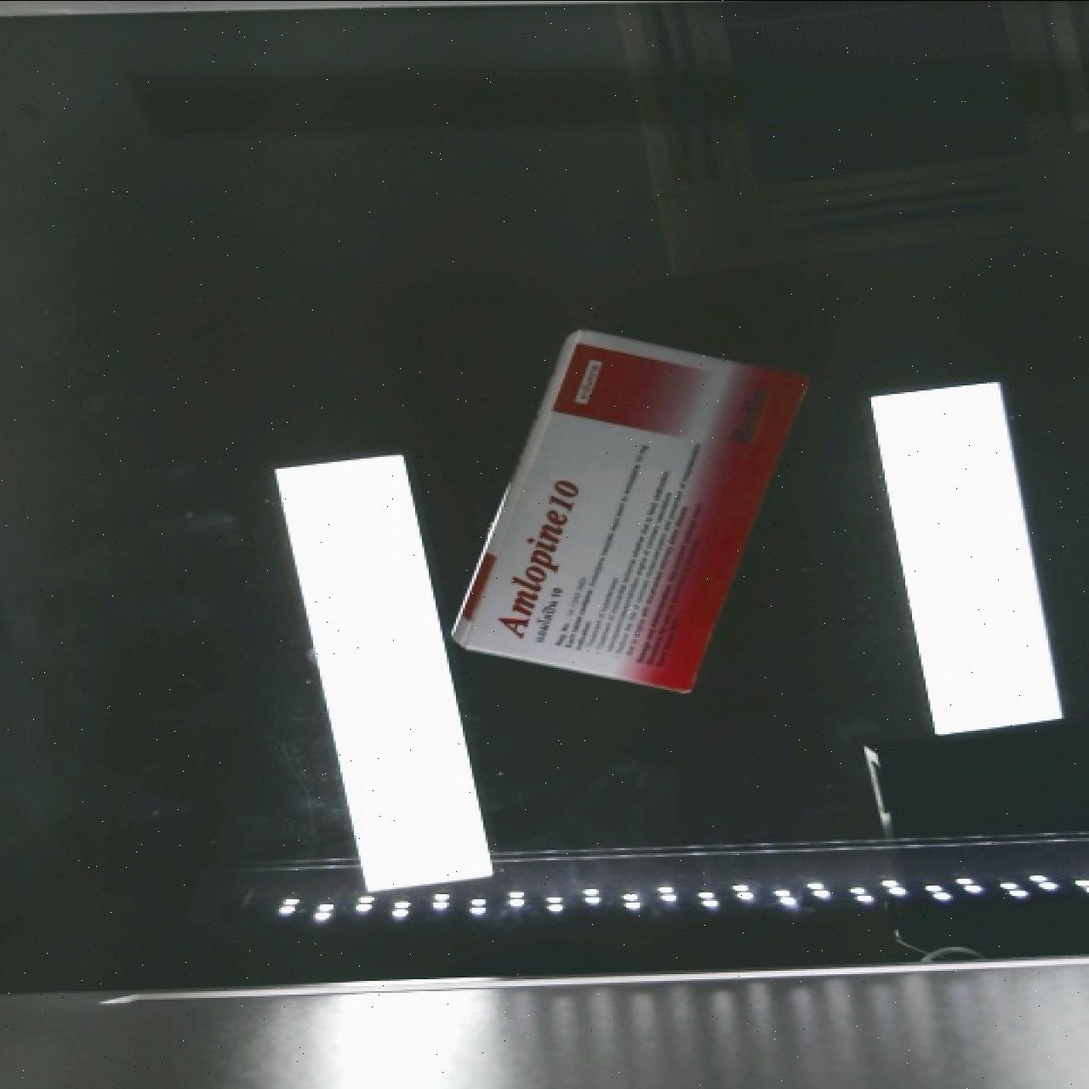medicine_label_obb: (469, 451, 601, 666)
